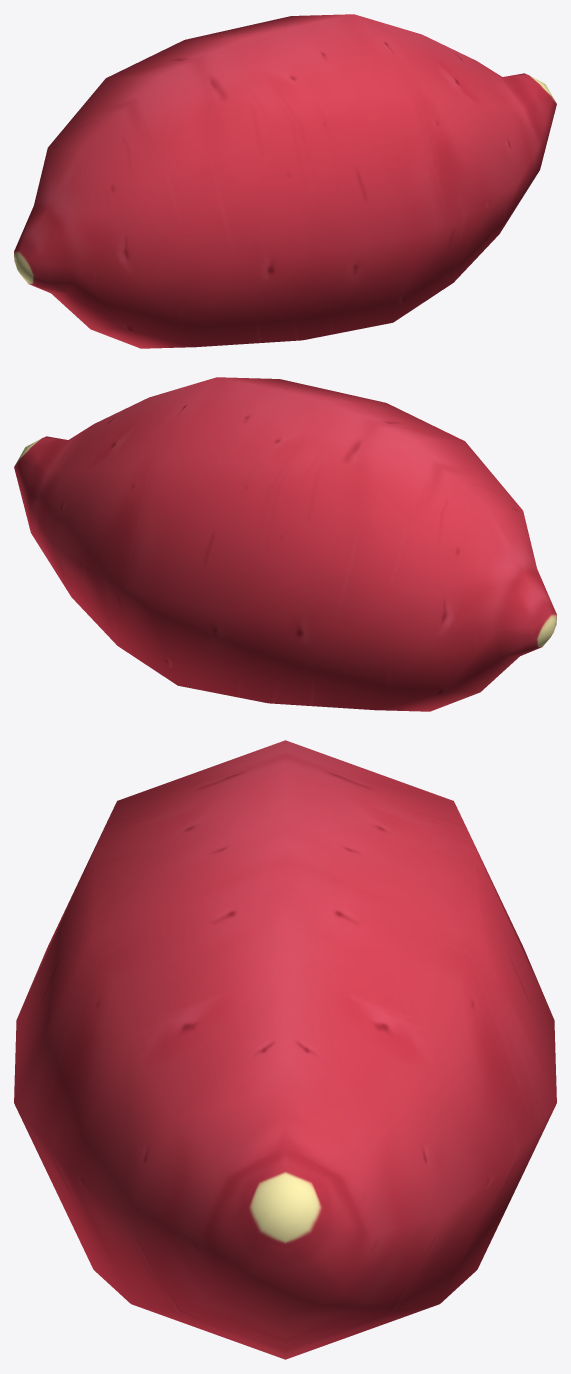
Rendered from yam.FBX.
3 renders of one model, top to bottom at view 1: azimuth 30°, elevation 25°; view 2: azimuth 150°, elevation 25°; view 3: azimuth 270°, elevation 25°, orthographic. The views are drawn at different scales.
Parts seen in each view (by area): view 1: yam; view 2: yam; view 3: yam.
Part boxes in pixels (<box>): yam: <box>14,14,556,348</box>; yam: <box>14,377,556,711</box>; yam: <box>14,740,556,1359</box>.
Bounding box in the file's own units: 54.18 × 29.69 × 29.56.
